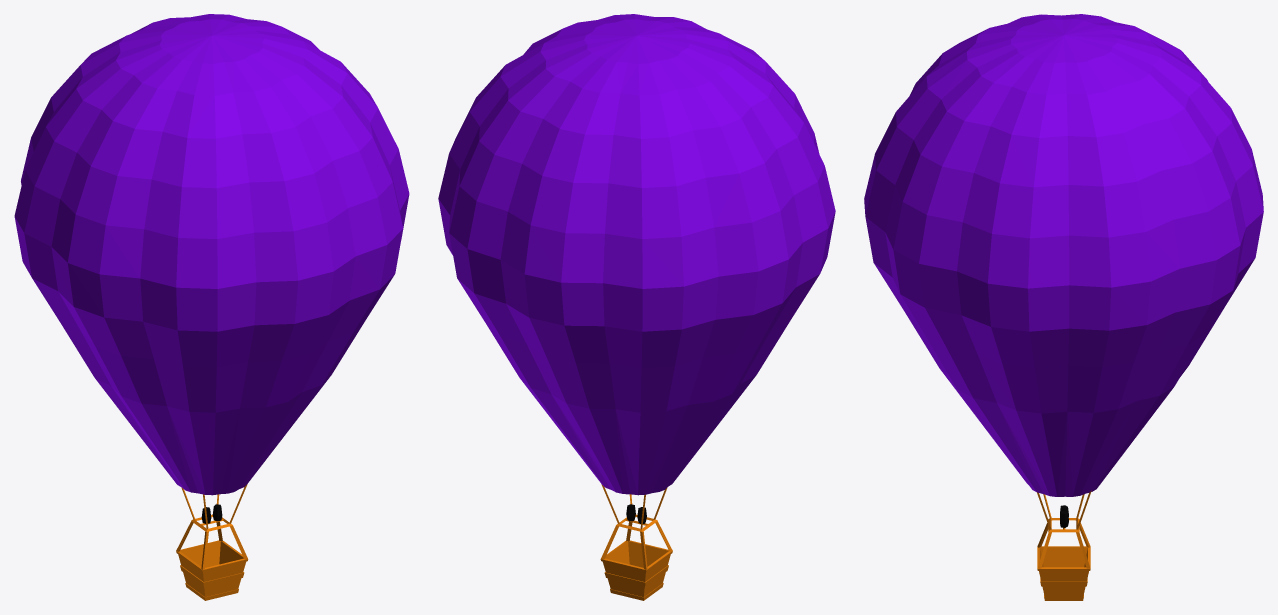
The model's file is SM_HotAirBalloon.fbx.
3 views of the same model, side by side, from view 1: azimuth 30°, elevation 25°; view 2: azimuth 150°, elevation 25°; view 3: azimuth 270°, elevation 25° (orthographic).
Parts seen in each view (by area): view 1: Hot Air Balloon; view 2: Hot Air Balloon; view 3: Hot Air Balloon.
Boxes of the visible parts, x1,y1,x2,y2 form: Hot Air Balloon: (14, 14, 409, 600); Hot Air Balloon: (438, 14, 835, 600); Hot Air Balloon: (864, 14, 1263, 600).
Bounding box in the file's own units: 1190 × 1857 × 1206.
